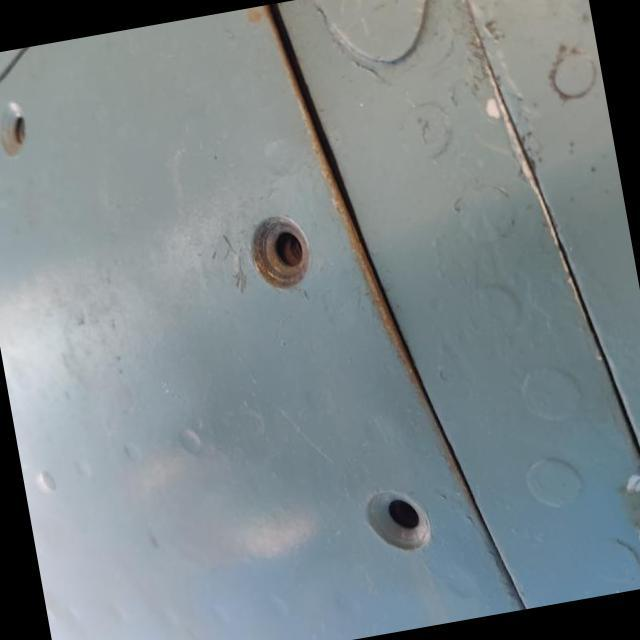Fastener Damage: (204, 172, 360, 326), (332, 448, 458, 584)
